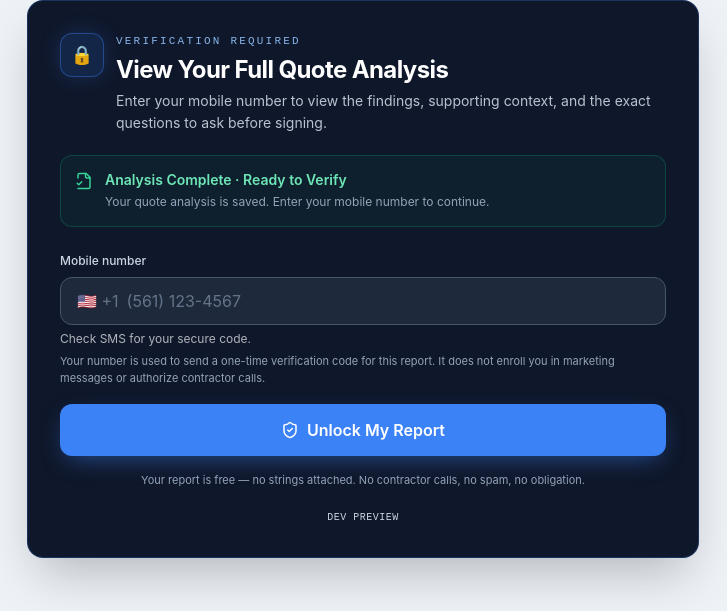
Test: PreviewUnlockSlot visual-lab phone disclosure › preserves the visual-lab phone-to-code transition
The image size is (727, 611).
Later steps or results of the test are not shown.
In the field labelled "Mobile number": (388, 300) [127,288,649,312], type "5615551212"
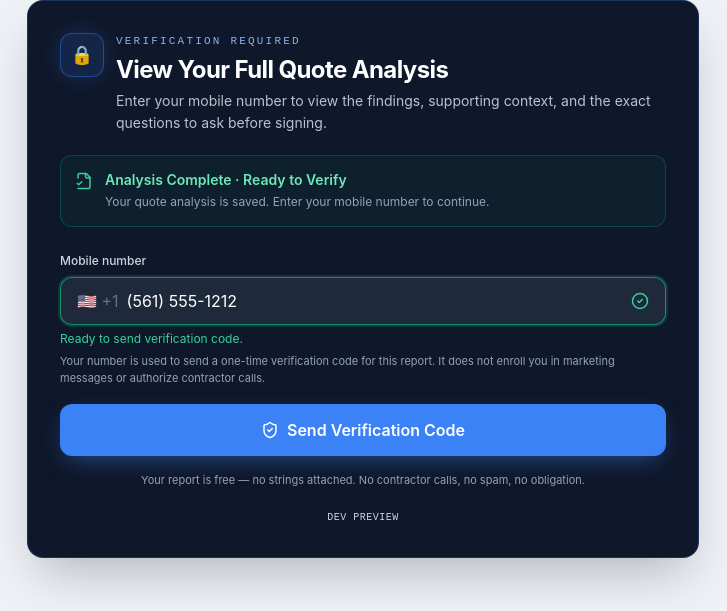
Click the button "Send Verification Code": (363, 430) [60,404,666,456]
Wait 600 ms
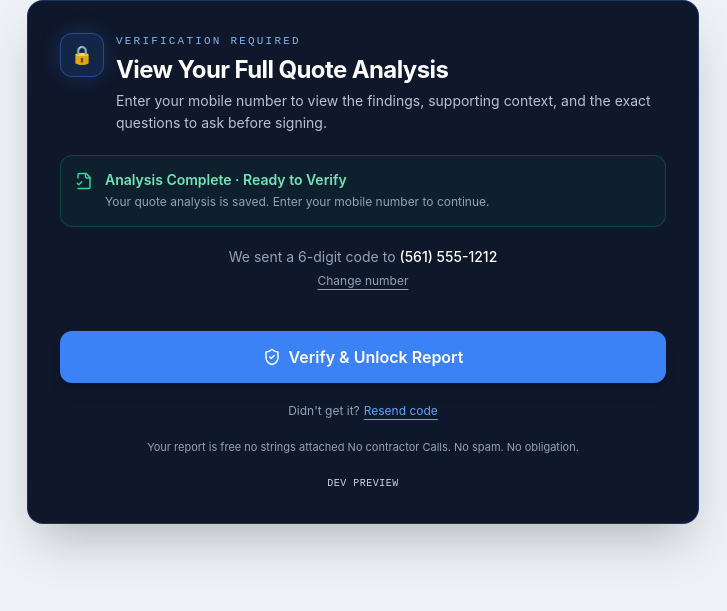
Result: the text "We sent a 6-digit code to (561) 555-1212" is shown at [229,248,497,264]
Result: the button "Verify & Unlock Report" is disabled at [60,330,666,382]
